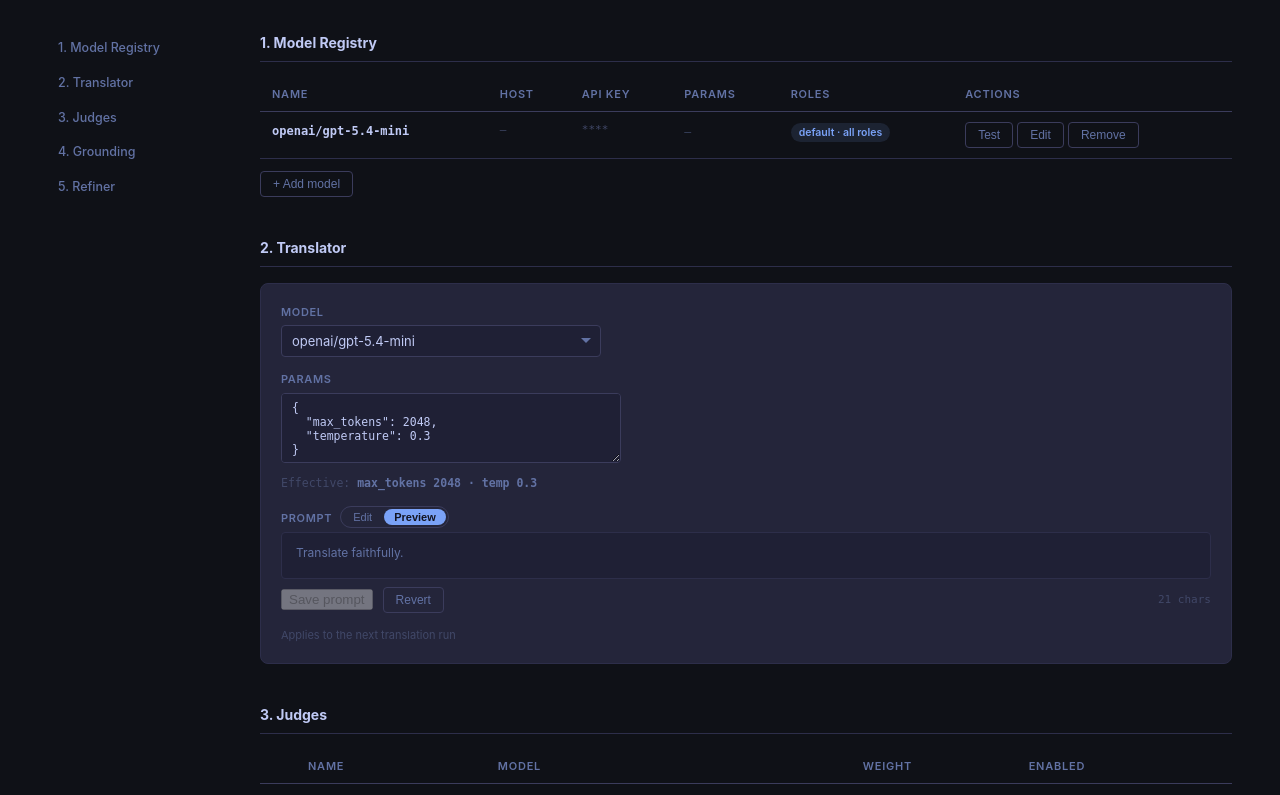
Test: SettingsTab Add Model modal › opens the modal with a default openrouter base URL
What coordinates should you click on to do the following:
click the button "+ Add model"
I would click on:
 (307, 184)
Its box is [260,170,353,196].
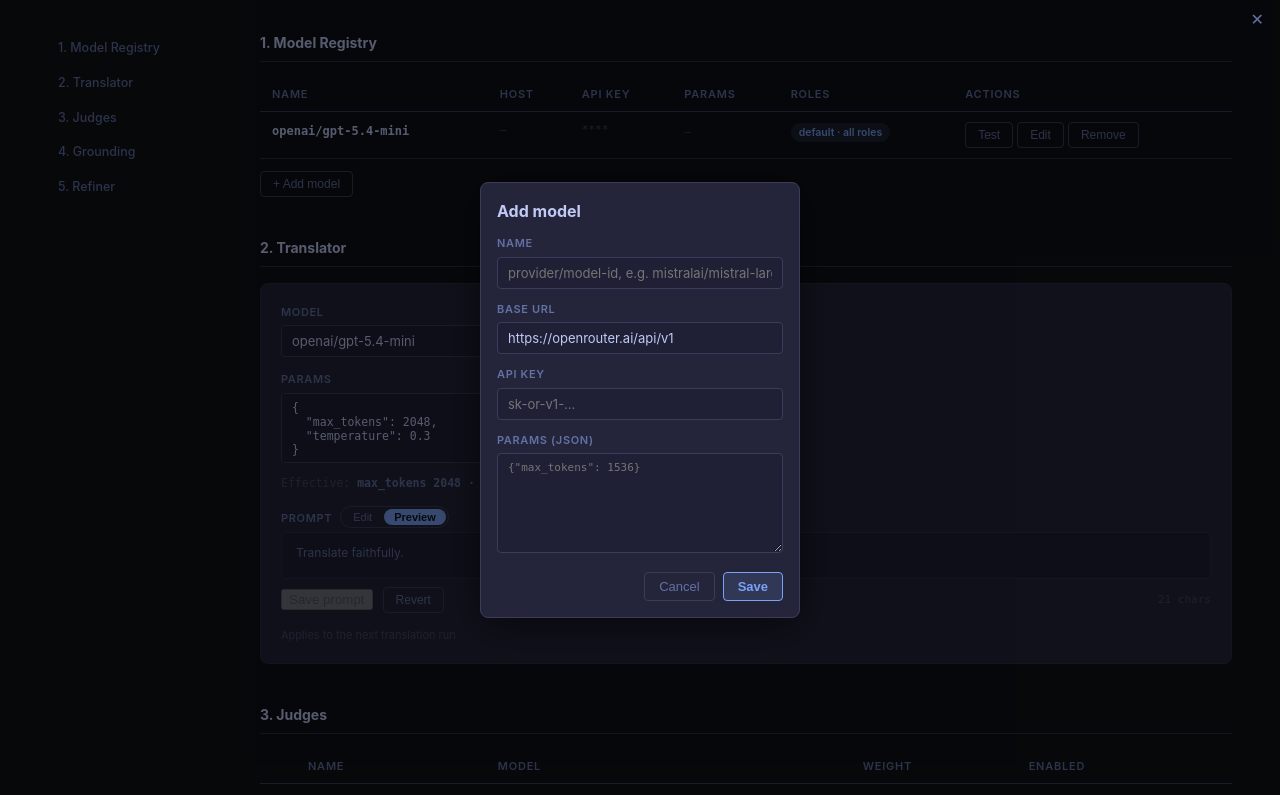
Now the element with test id "add-model-modal" is shown, box [480,182,800,618]
Now the field showing "https://openrouter.ai/api/v1" is shown, box [497,322,783,354]
